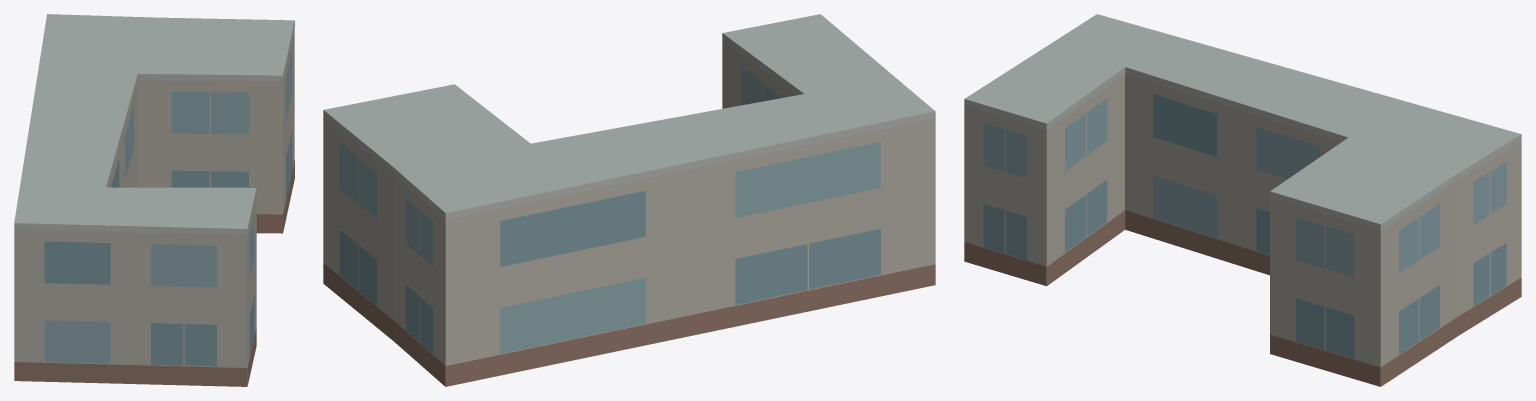
File: survey-upis-32890696.glb
3 views of the same model, side by side, from view 1: azimuth 30°, elevation 25°; view 2: azimuth 150°, elevation 25°; view 3: azimuth 270°, elevation 25° (orthographic). The views are drawn at different scales.
Parts seen in each view (by area): view 1: survey-upis-32890696.tmp; view 2: survey-upis-32890696.tmp; view 3: survey-upis-32890696.tmp.
Part boxes in pixels (left/top/right/bottom): survey-upis-32890696.tmp: left=14, top=14, right=294, bottom=386; survey-upis-32890696.tmp: left=323, top=14, right=935, bottom=386; survey-upis-32890696.tmp: left=964, top=14, right=1521, bottom=386.
Size of the model in its own units: 16.93 by 6.1 by 18.96.
